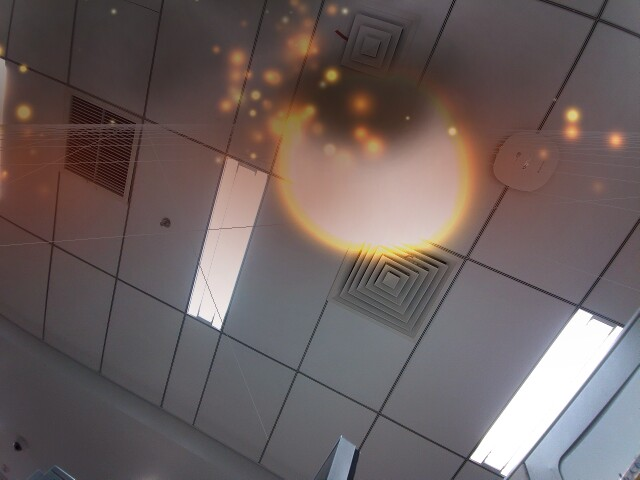fire: (282, 61, 478, 257)
